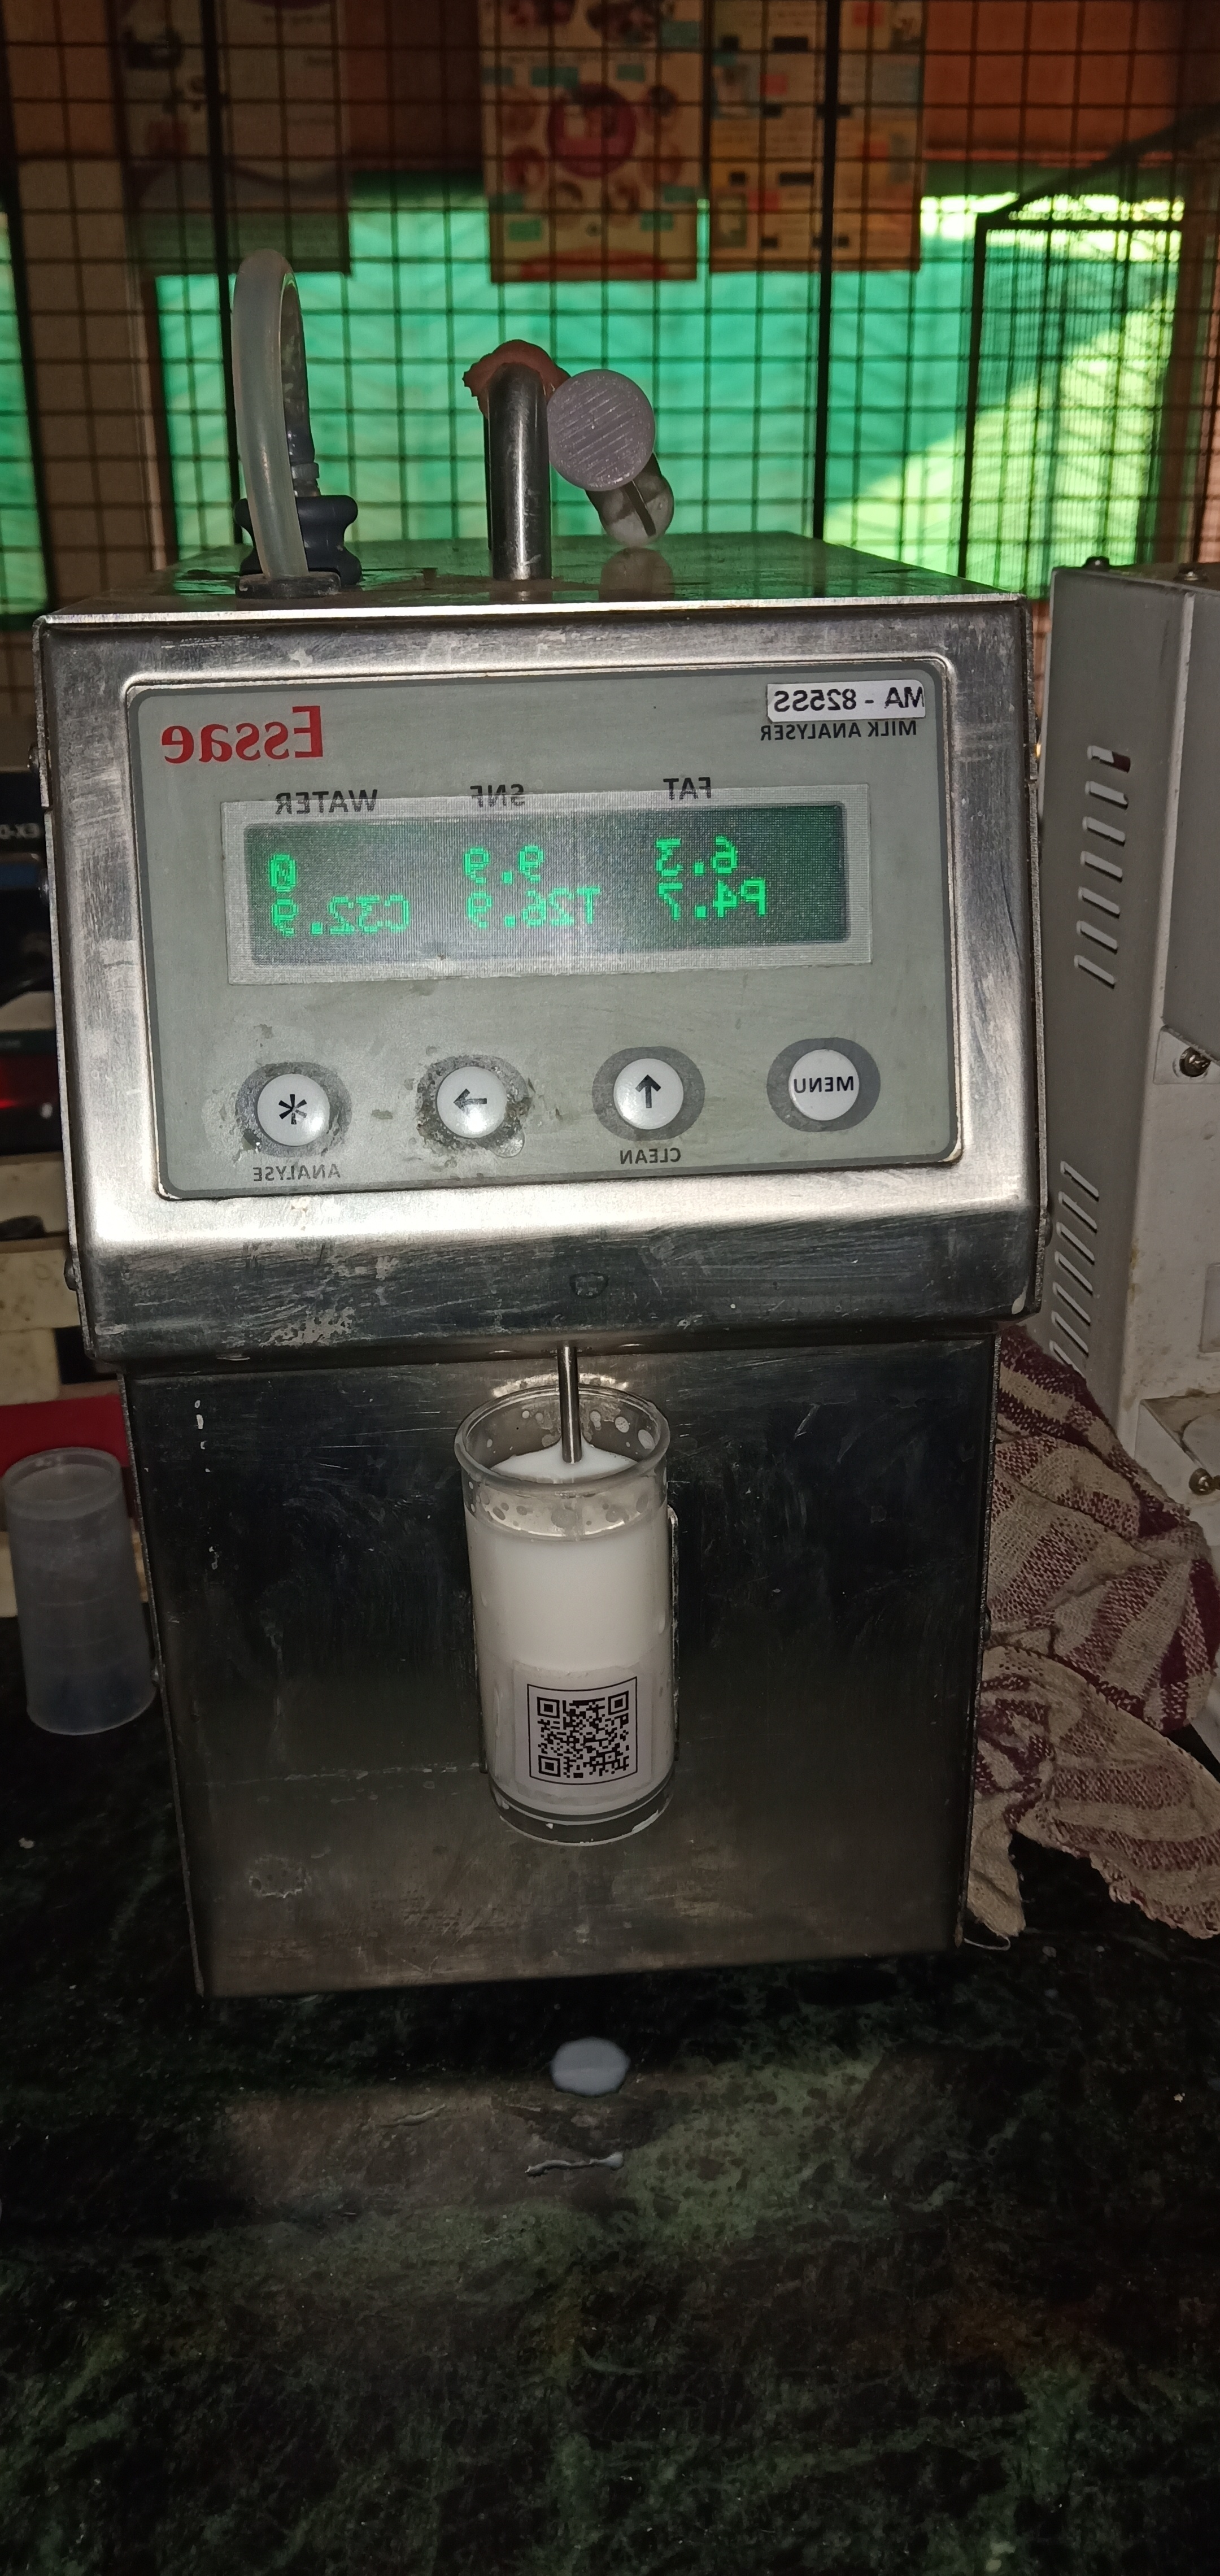lcd: (225, 792, 874, 969)
qr: (519, 1663, 660, 1796)
